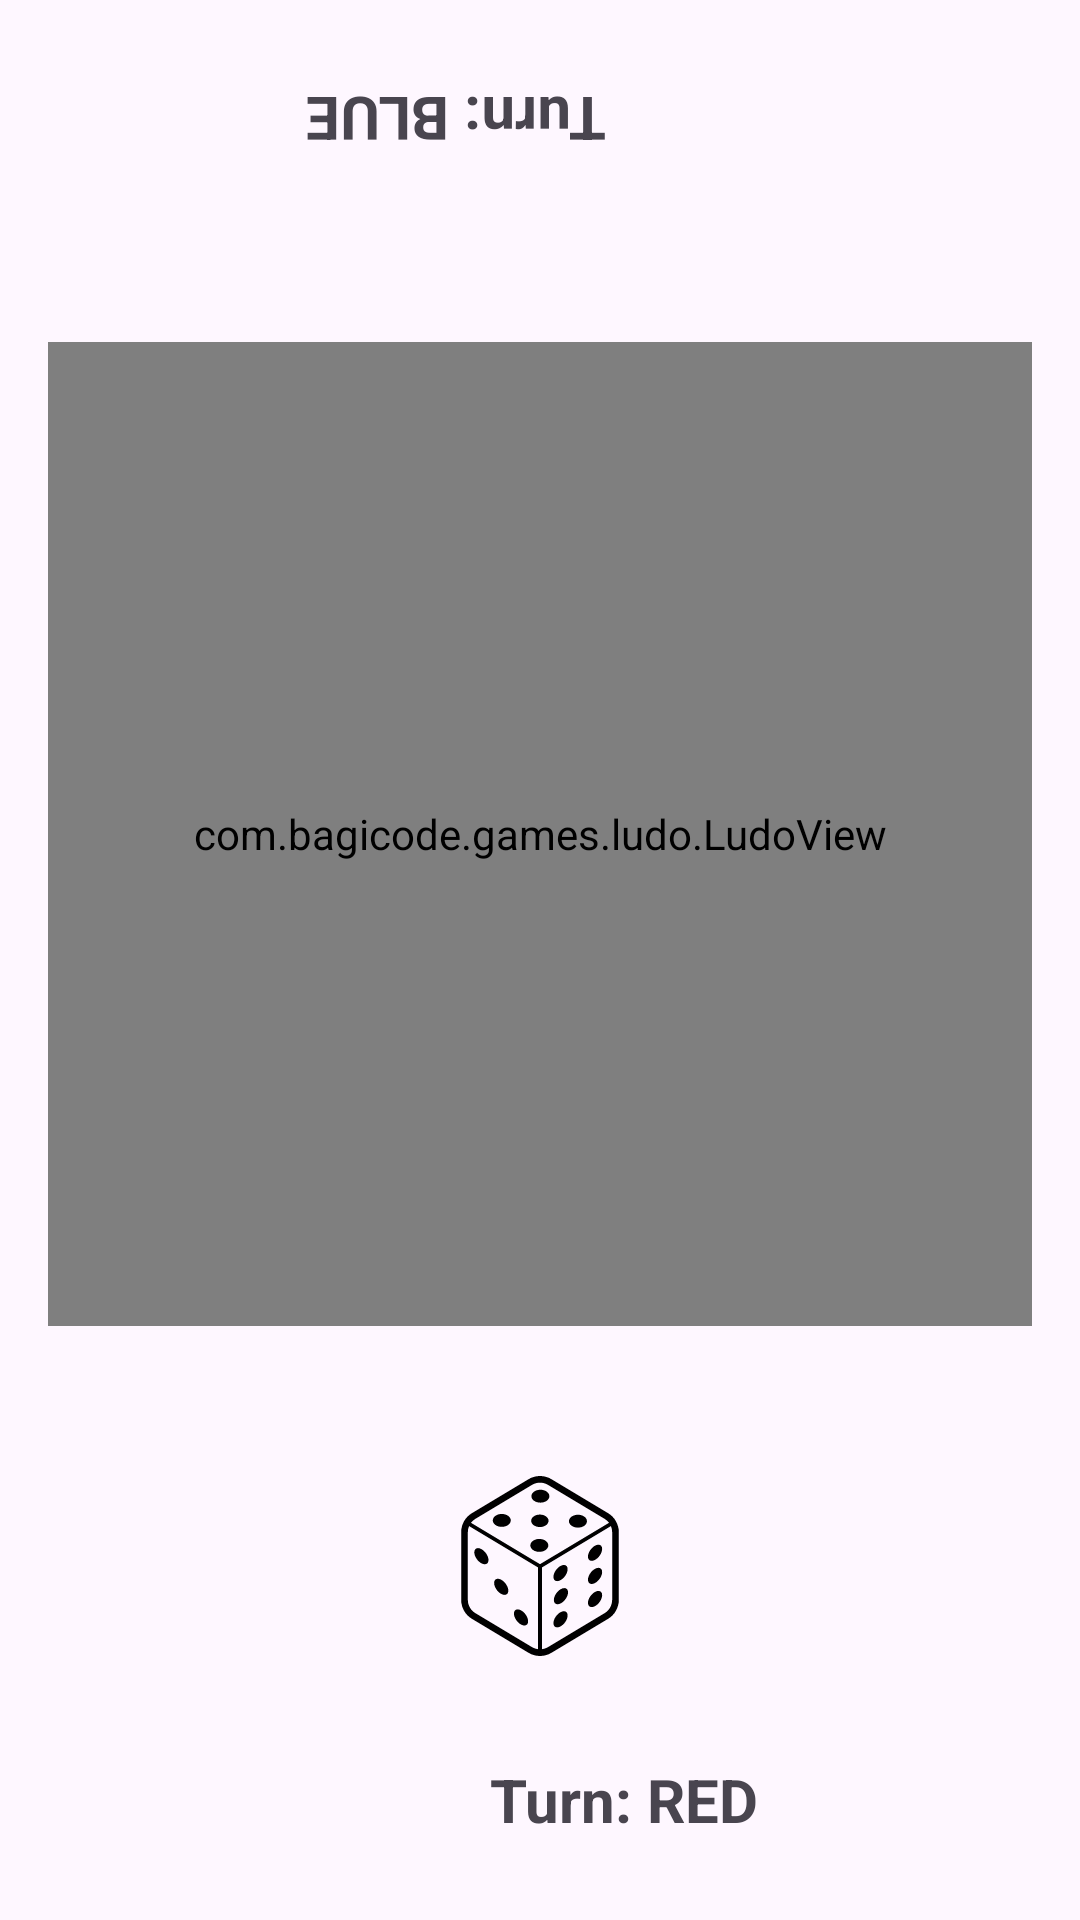

Locate icon controls on the screen. Image size 1080px×1920px, boxes as (x1, y1, x2, y2).
Dice Bottom: (461, 1476, 619, 1656)
